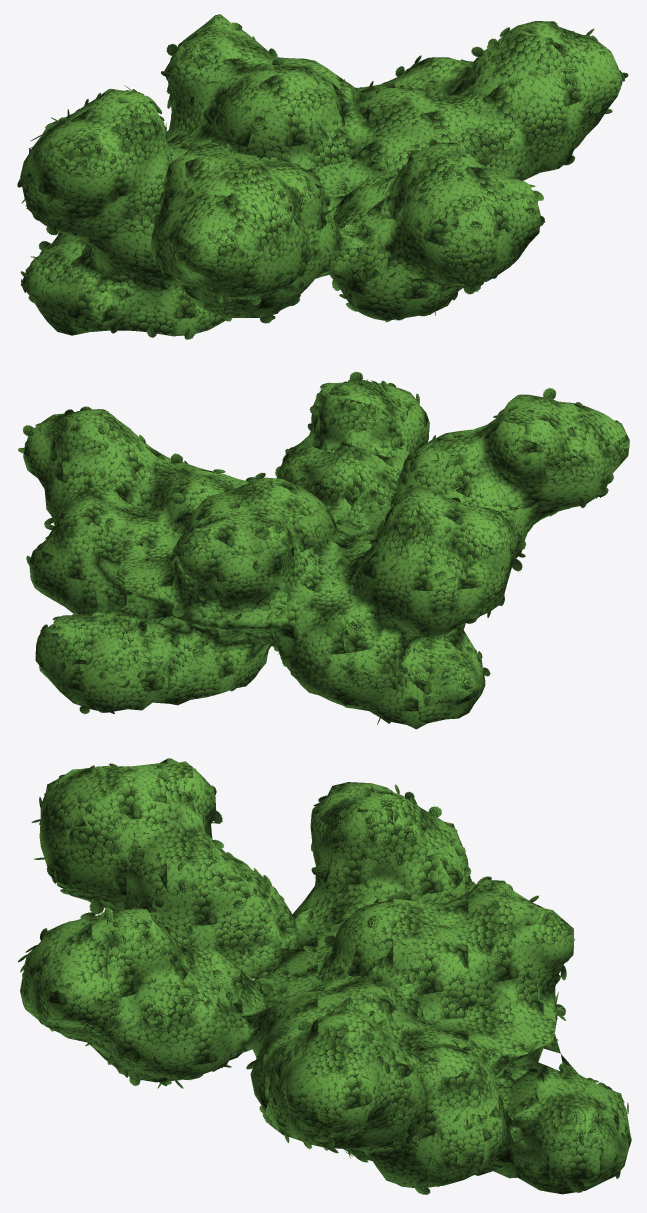
Rendered from moundbush_v2.glb.
The picture shows the model from 3 angles, top to bottom: view 1: azimuth 30°, elevation 25°; view 2: azimuth 150°, elevation 25°; view 3: azimuth 270°, elevation 25°; orthographic projection. The views are drawn at different scales.
Parts seen in each view (by area): view 1: moundbush_v2_volume_LOD0, moundbush_v2_leaves_LOD0; view 2: moundbush_v2_volume_LOD0, moundbush_v2_leaves_LOD0; view 3: moundbush_v2_volume_LOD0, moundbush_v2_leaves_LOD0.
Part boxes in pixels (x1,y1,x2,y2): moundbush_v2_volume_LOD0: (20, 14, 622, 336); moundbush_v2_leaves_LOD0: (17, 21, 628, 339); moundbush_v2_volume_LOD0: (23, 380, 629, 729); moundbush_v2_leaves_LOD0: (18, 371, 629, 724); moundbush_v2_volume_LOD0: (20, 758, 631, 1194); moundbush_v2_leaves_LOD0: (18, 763, 630, 1194).
Size of what is drawn, in the model's own units: 2.92 by 1.27 by 2.59.
2 materials, 2 textured.
